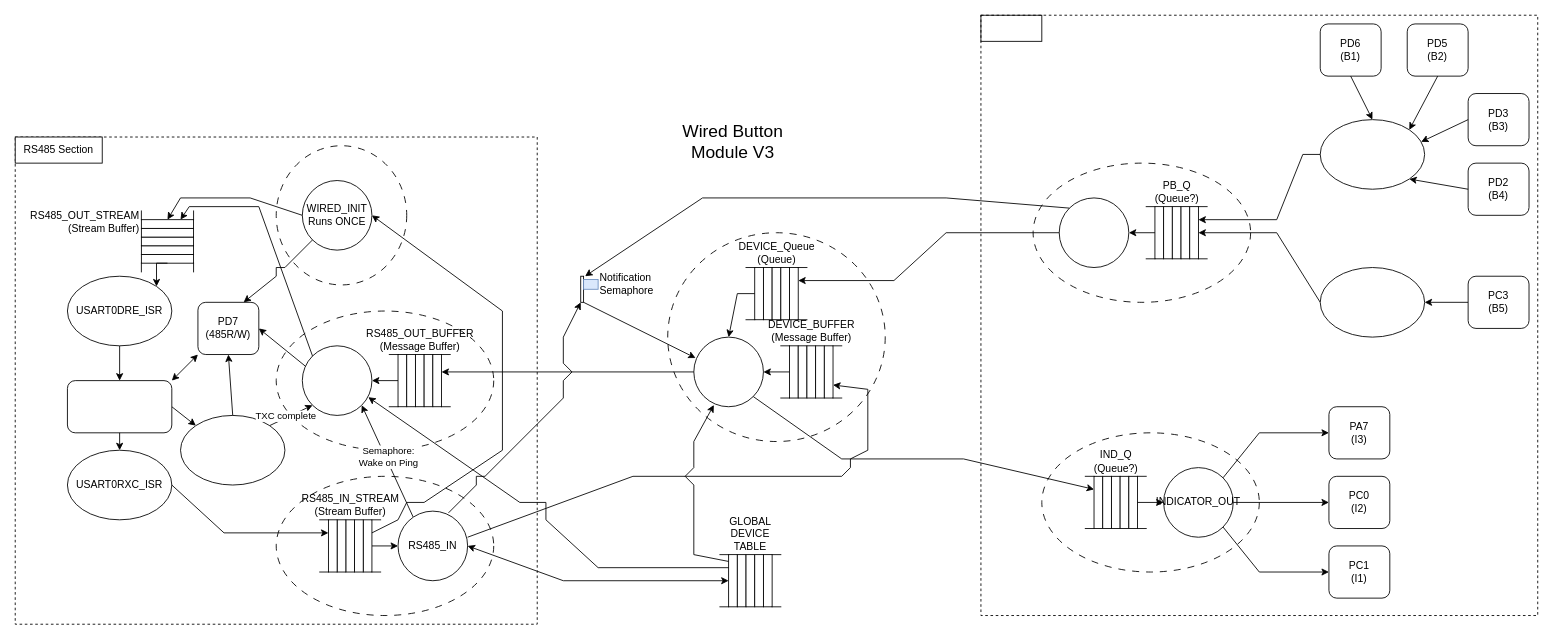
Image size: 1553x639. Some labels were removed from this diagram. The box of each missing label's shape, as (x1, y1, x2, y2) in pixels:
DEVICE SPECIFIC (blocks for notification): (693, 336, 763, 407)
I/O Section: (980, 14, 1042, 41)
PB_IN: (1058, 197, 1129, 268)
PORTC_ISR: (1319, 267, 1425, 337)
PORTD_ISR: (1319, 119, 1425, 189)
RS485_OUT: (301, 345, 372, 415)
USART0 RS485 [MUTEX]: (67, 380, 172, 433)
USART0TXC_ISR: (180, 415, 285, 485)
